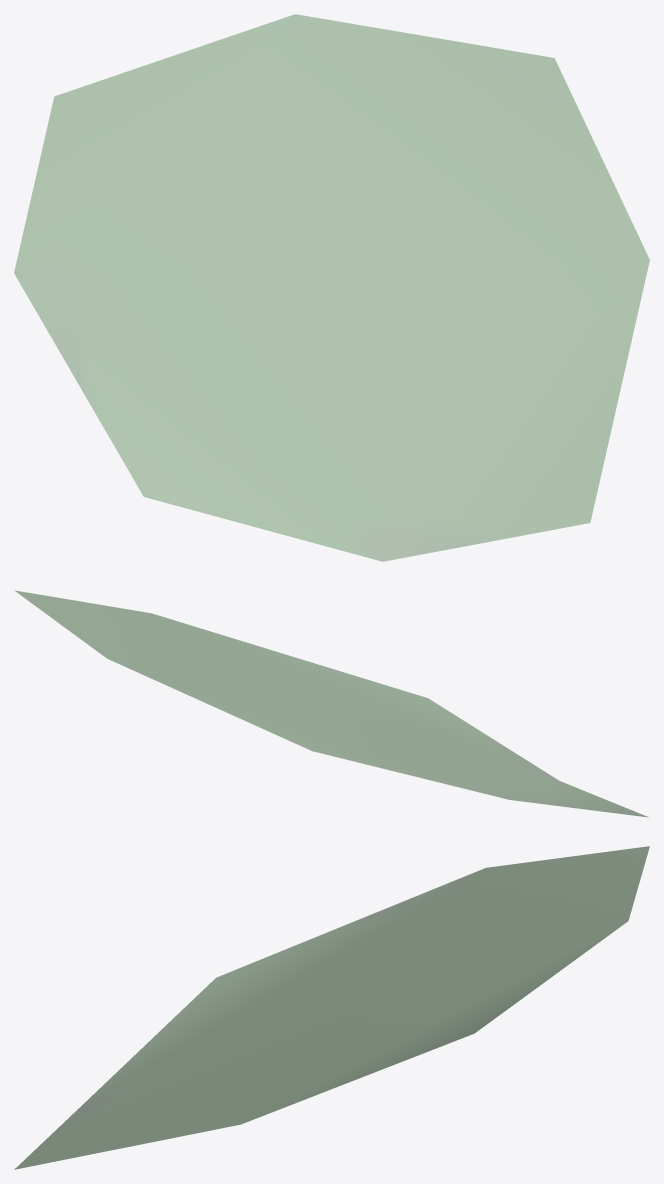
The model's file is TROLLHOLE02_HOLECAP166.fbx.
3 views of the same model, one above another, from view 1: azimuth 30°, elevation 25°; view 2: azimuth 150°, elevation 25°; view 3: azimuth 270°, elevation 25° (orthographic). The views are drawn at different scales.
Parts seen in each view (by area): view 1: TROLLHOLE02_HOLECAP166; view 2: TROLLHOLE02_HOLECAP166; view 3: TROLLHOLE02_HOLECAP166.
Part boxes in pixels (x1,y1,x2,y2): TROLLHOLE02_HOLECAP166: (14, 14, 649, 561); TROLLHOLE02_HOLECAP166: (14, 590, 649, 817); TROLLHOLE02_HOLECAP166: (14, 846, 649, 1169).
Size of the model in its own units: 24371 by 12428 by 25562.
Materials: 1 (1 with a texture image).
